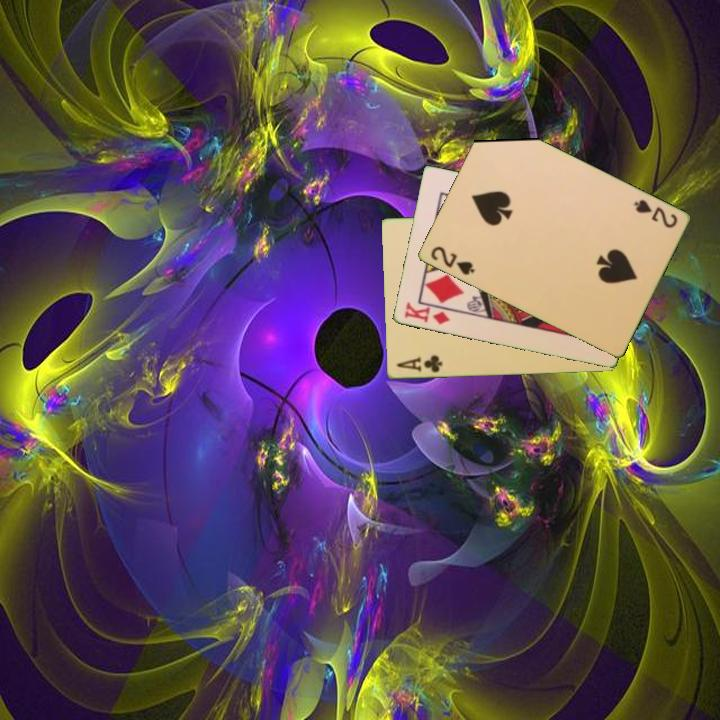2s: (427, 243, 477, 278), (630, 196, 680, 231)
Ac: (393, 352, 445, 375)
Kd: (400, 299, 452, 327)
